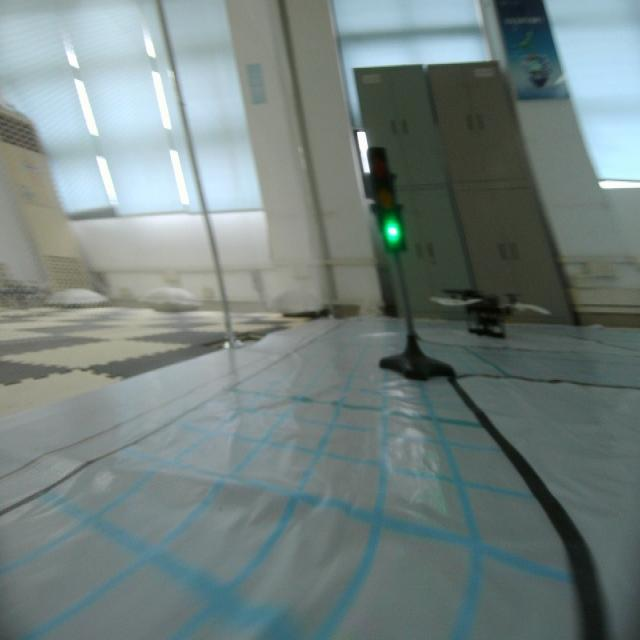green: (363, 144, 409, 259)
